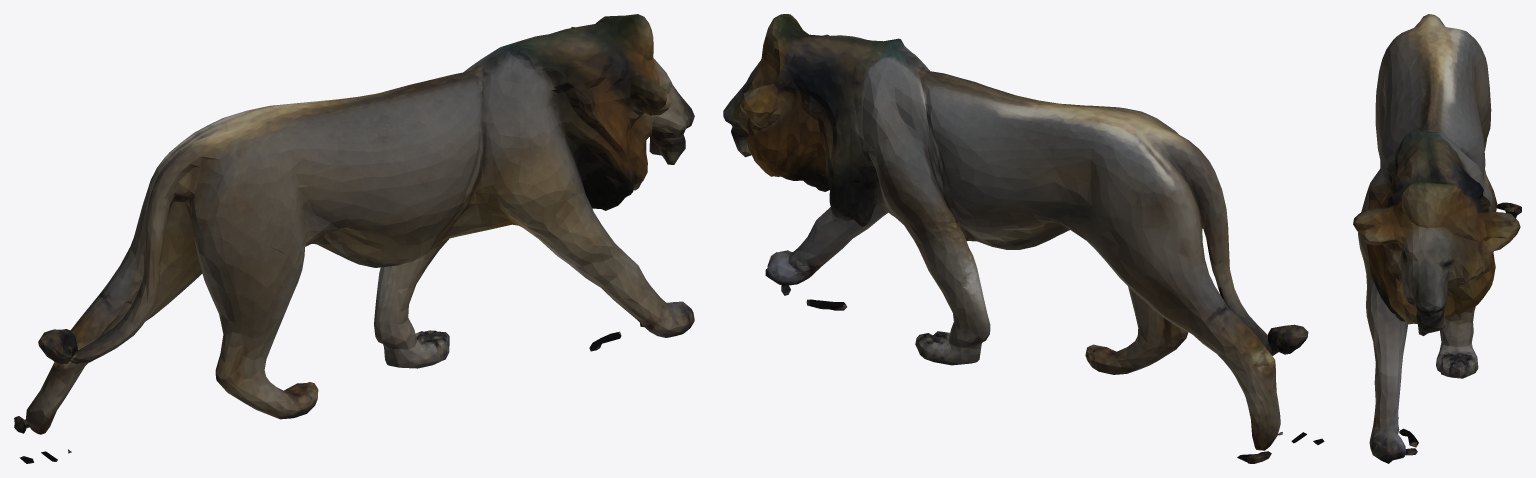
The model's file is lion.glb.
The picture shows the model from 3 angles, left to right: view 1: azimuth 30°, elevation 25°; view 2: azimuth 150°, elevation 25°; view 3: azimuth 270°, elevation 25°; orthographic projection. The views are drawn at different scales.
Visible parts, largest first — view 1: world; view 2: world; view 3: world.
Part boxes in pixels (<box>): world: <box>14,14,694,463</box>; world: <box>723,14,1324,463</box>; world: <box>1353,14,1521,463</box>.
Size of the model in its own units: 0.9993 by 0.4569 by 0.2522.
Materials: 1 (1 with a texture image).
